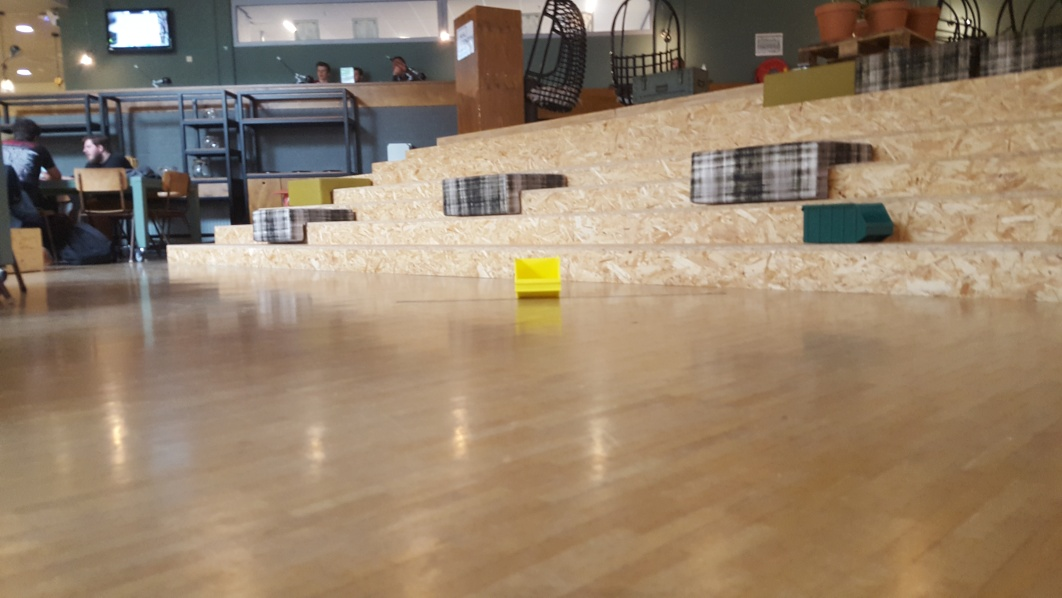tray: (794, 202, 897, 242), (507, 254, 562, 299)
